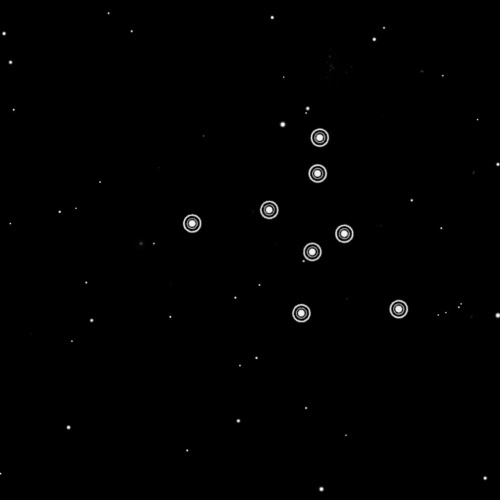hercules: (176, 125, 414, 329)
